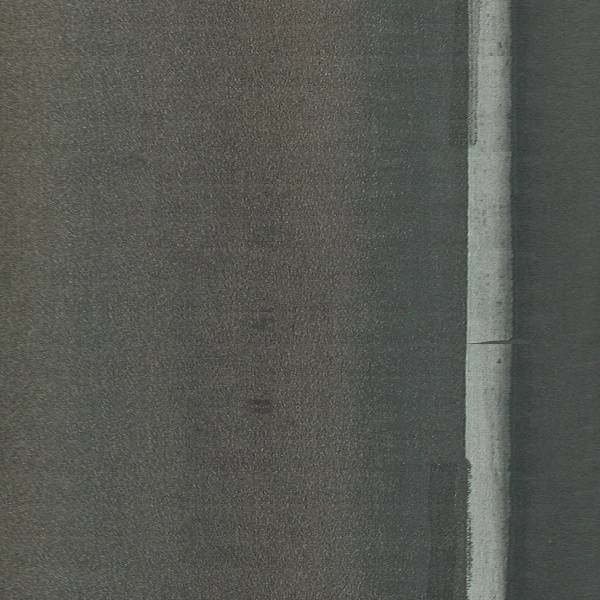road_damage: (241, 393, 279, 420)
